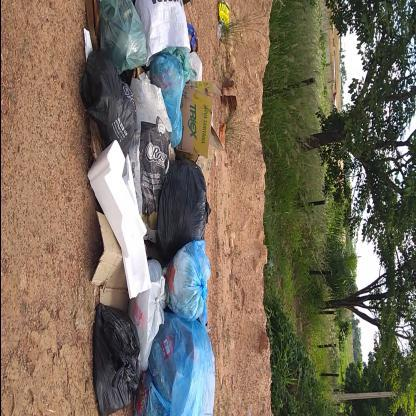lixo: (92, 2, 213, 415)
